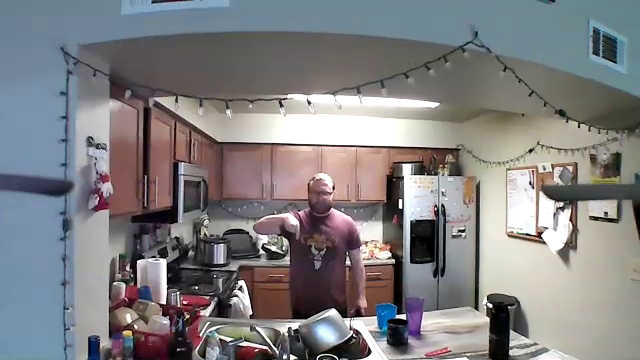down: (279, 209, 303, 242)
